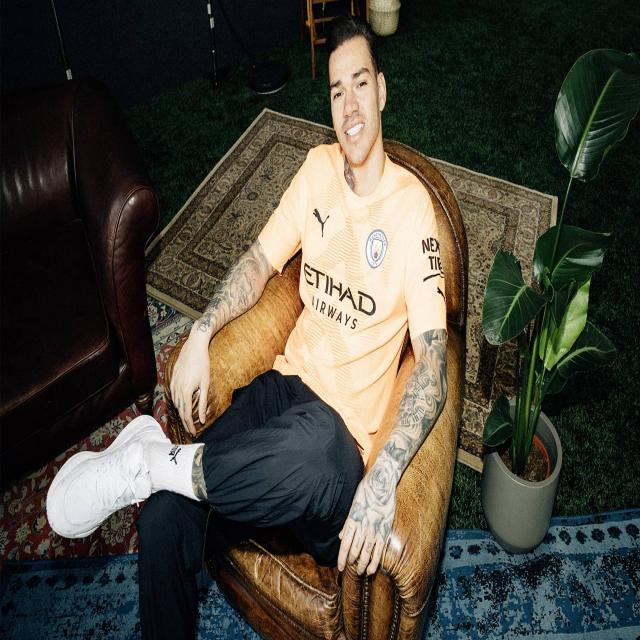Etihad Airways: (304, 261, 376, 330)
Puma: (312, 204, 330, 240), (170, 447, 182, 466), (437, 287, 447, 308)
